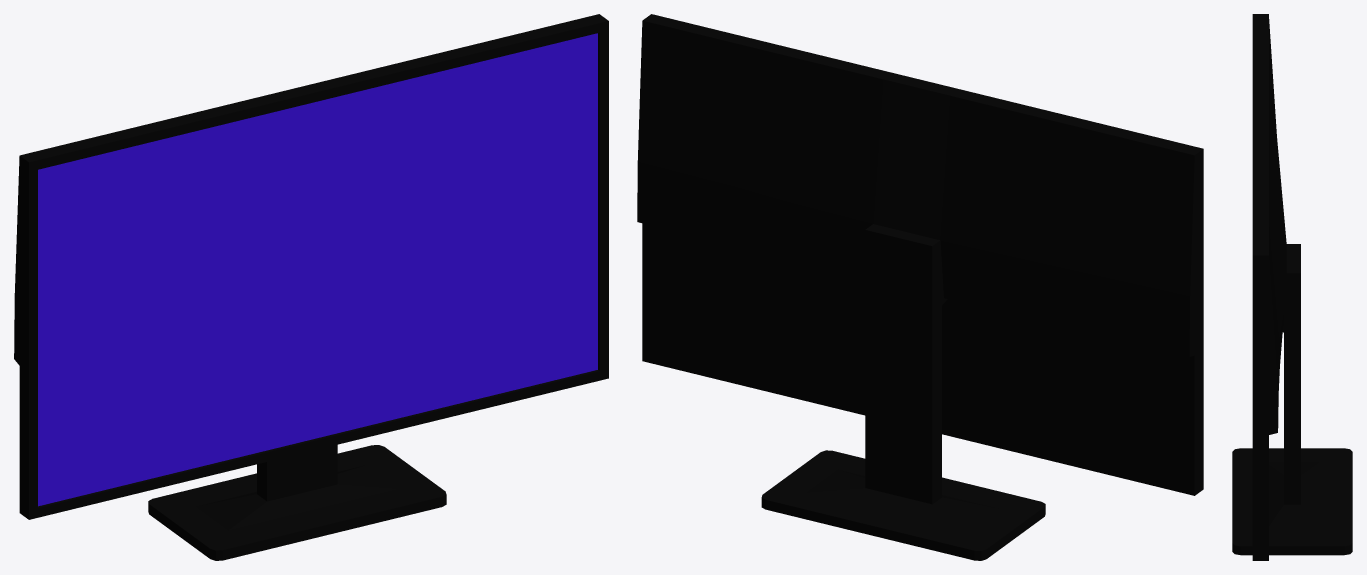
Rendered from monitor.fbx.
The picture shows the model from 3 angles, left to right: view 1: azimuth 30°, elevation 25°; view 2: azimuth 150°, elevation 25°; view 3: azimuth 270°, elevation 25°; orthographic projection. The views are drawn at different scales.
Parts seen in each view (by area): view 1: Cube.010; view 2: Cube.010; view 3: Cube.010.
Part boxes in pixels (x1,y1,x2,y2): Cube.010: [14, 14, 608, 560]; Cube.010: [637, 14, 1203, 560]; Cube.010: [1232, 14, 1352, 560].
Size of the model in its own units: 1832 by 1310 by 385.
